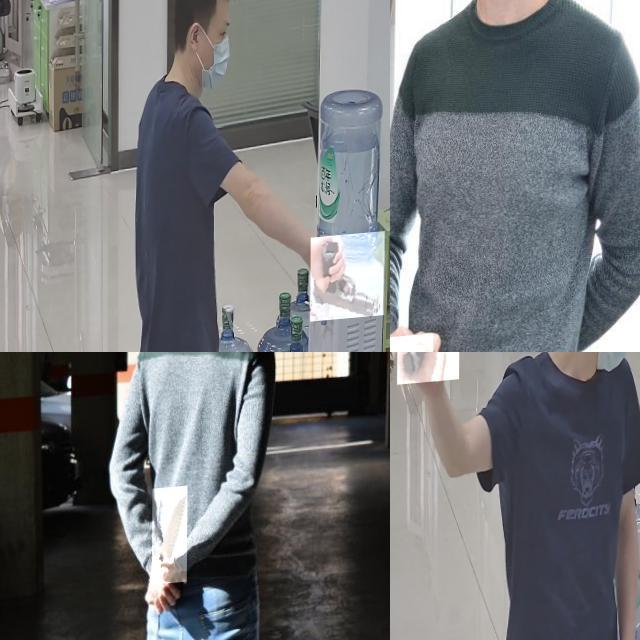-: (152, 491, 188, 588)
gun-knife-thesis - v11 Yolov5 augmented: (311, 242, 385, 331), (397, 352, 460, 440)
